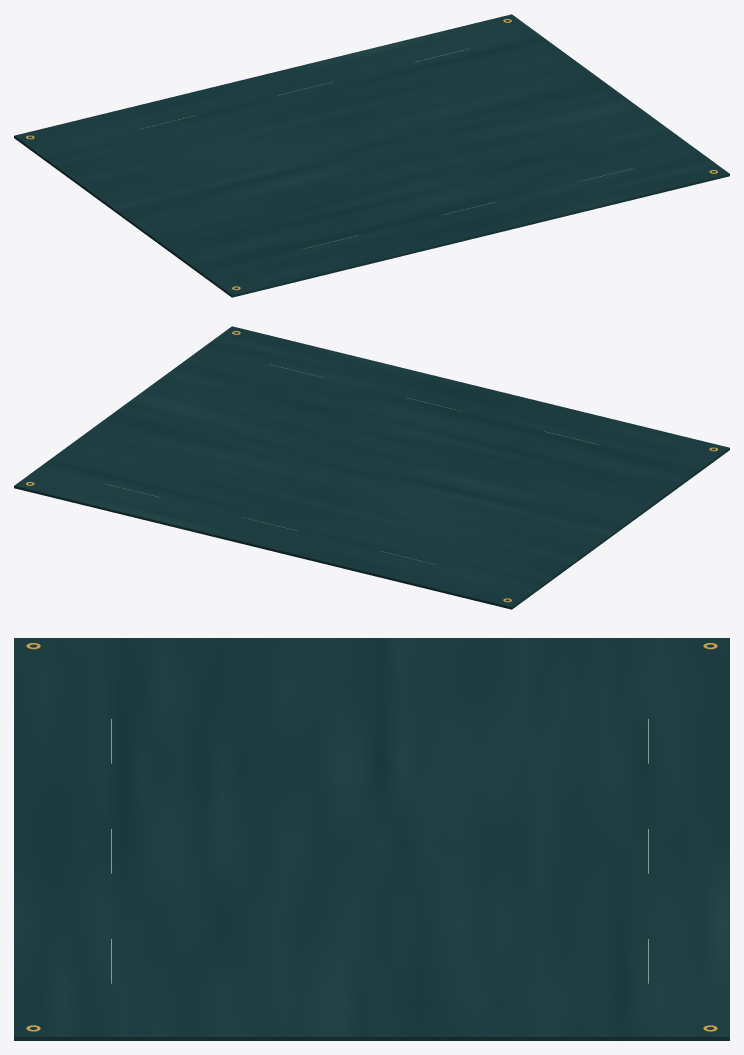
File: 313_L123_PCB_Main.obj
3 views of the same model, one above another, from view 1: azimuth 30°, elevation 25°; view 2: azimuth 150°, elevation 25°; view 3: azimuth 270°, elevation 25° (orthographic). The views are drawn at different scales.
Parts seen in each view (by area): view 1: 313_L123_PCB_Main__PSMAT__pcb; view 2: 313_L123_PCB_Main__PSMAT__pcb; view 3: 313_L123_PCB_Main__PSMAT__pcb.
Boxes of the visible parts, x1,y1,x2,y2 form: 313_L123_PCB_Main__PSMAT__pcb: (14,14,729,297); 313_L123_PCB_Main__PSMAT__pcb: (14,326,729,609); 313_L123_PCB_Main__PSMAT__pcb: (14,638,729,1040).
Bounding box in the file's own units: 0.58 × 0.0029 × 0.44.
Materials: 3 (3 with a texture image).
